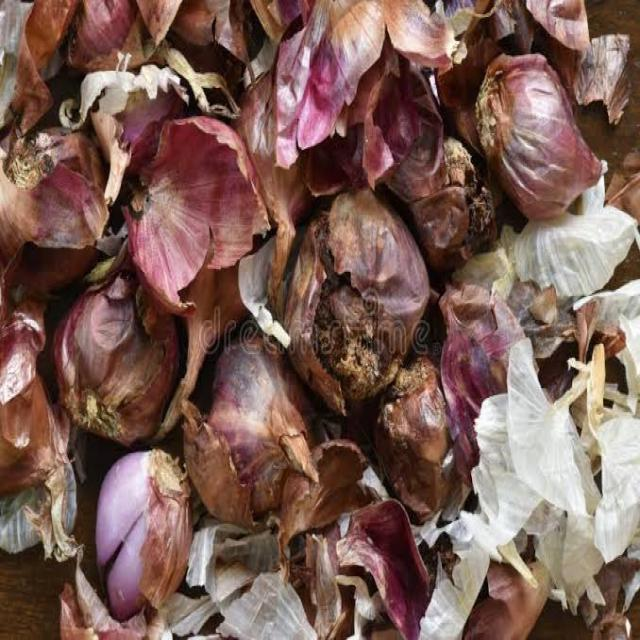rotten: (184, 334, 365, 542), (430, 275, 600, 490), (13, 1, 251, 146), (284, 166, 434, 393), (362, 59, 497, 269), (5, 100, 144, 298), (53, 267, 181, 448), (2, 276, 84, 557), (475, 51, 603, 222), (285, 498, 436, 636), (506, 1, 631, 130)
